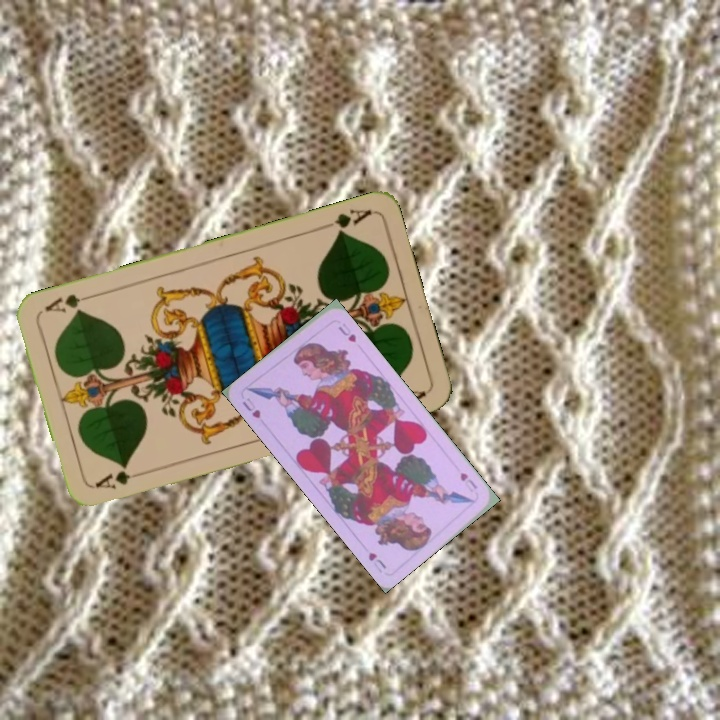GA: (316, 205, 374, 238), (91, 466, 149, 492)
HU: (238, 393, 263, 421), (456, 468, 480, 493)
